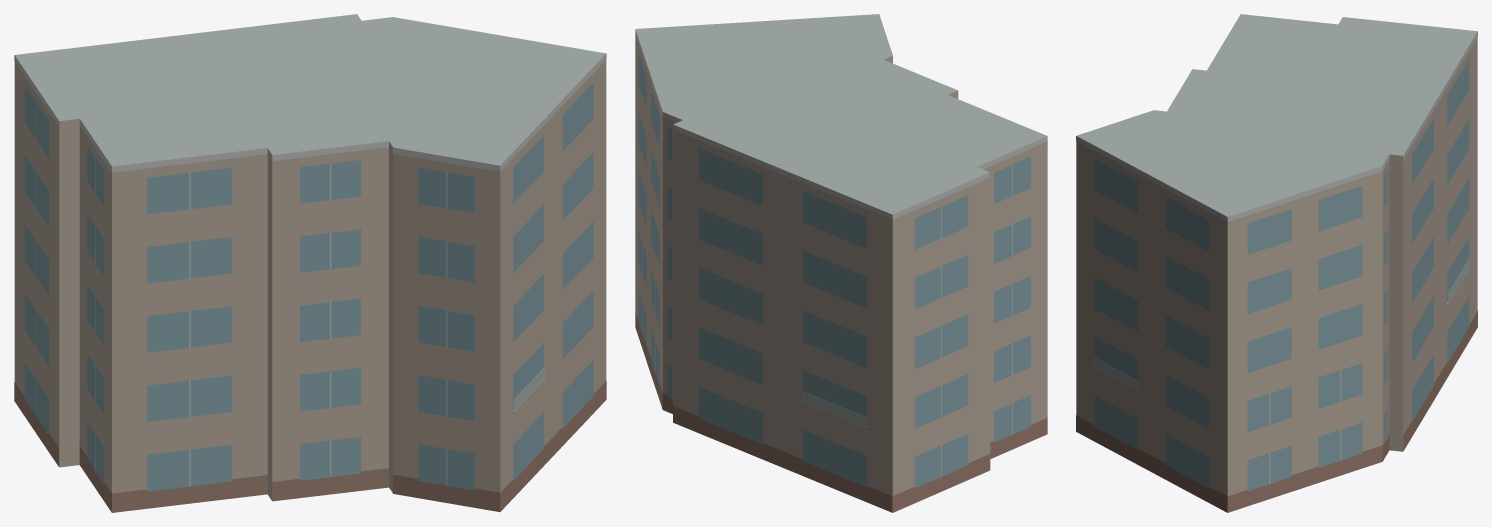
Rendered from survey-upis-32713974.glb.
The picture shows the model from 3 angles, left to right: view 1: azimuth 30°, elevation 25°; view 2: azimuth 150°, elevation 25°; view 3: azimuth 270°, elevation 25°; orthographic projection. The views are drawn at different scales.
Visible parts, largest first — view 1: survey-upis-32713974.tmp; view 2: survey-upis-32713974.tmp; view 3: survey-upis-32713974.tmp.
Boxes of the visible parts, box(x1,y1,x2,y2) form: survey-upis-32713974.tmp: box(14, 14, 606, 512); survey-upis-32713974.tmp: box(635, 14, 1047, 512); survey-upis-32713974.tmp: box(1076, 14, 1477, 512).
Bounding box in the file's own units: 20.6 × 14 × 17.23.
